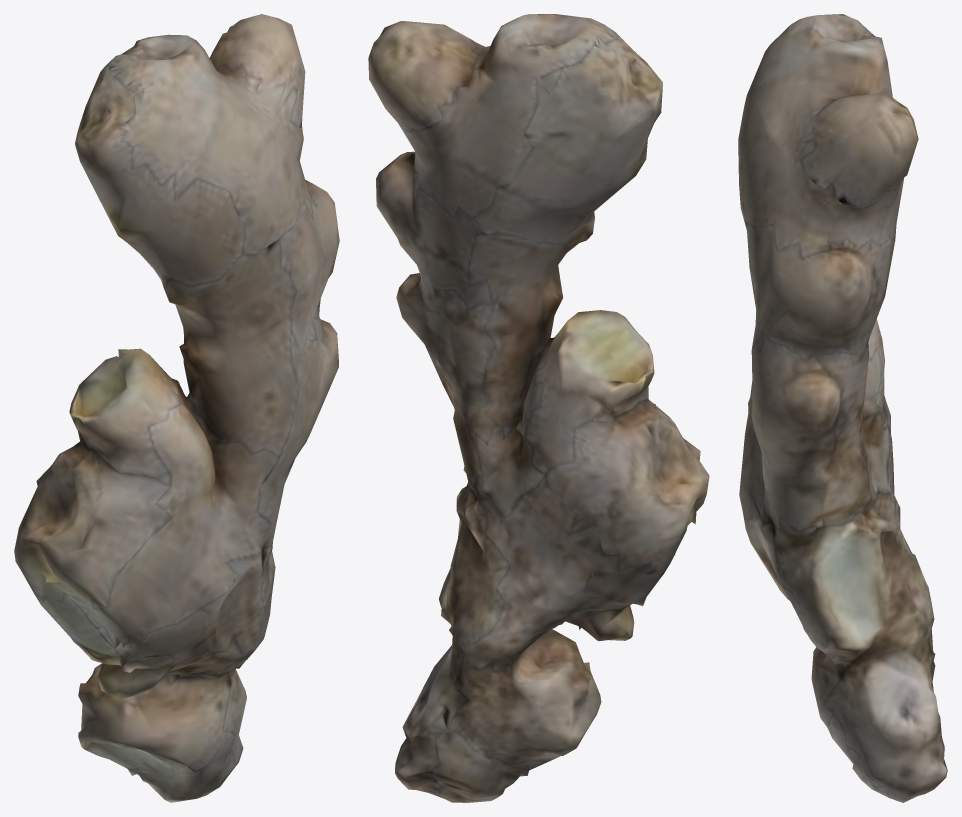
File: ginger.glb
3 views of the same model, side by side, from view 1: azimuth 30°, elevation 25°; view 2: azimuth 150°, elevation 25°; view 3: azimuth 270°, elevation 25° (orthographic). The views are drawn at different scales.
Parts seen in each view (by area): view 1: food_ginger_01; view 2: food_ginger_01; view 3: food_ginger_01.
Part boxes in pixels (<box>): food_ginger_01: <box>14,14,339,802</box>; food_ginger_01: <box>368,14,709,802</box>; food_ginger_01: <box>738,14,947,802</box>.
Size of the model in its own units: 0.2399 by 0.5746 by 0.1474.
Materials: 1 (1 with a texture image).
